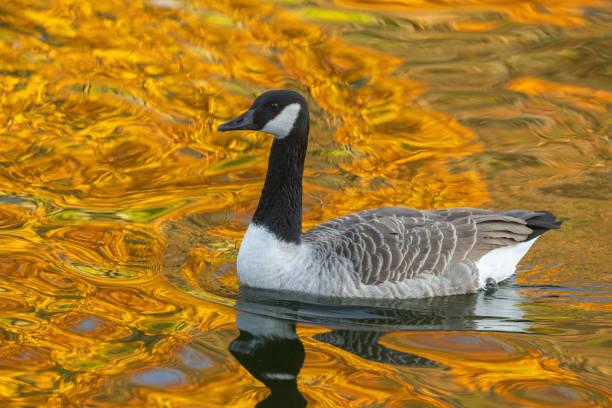Canadian-Goose: (217, 85, 561, 294)
